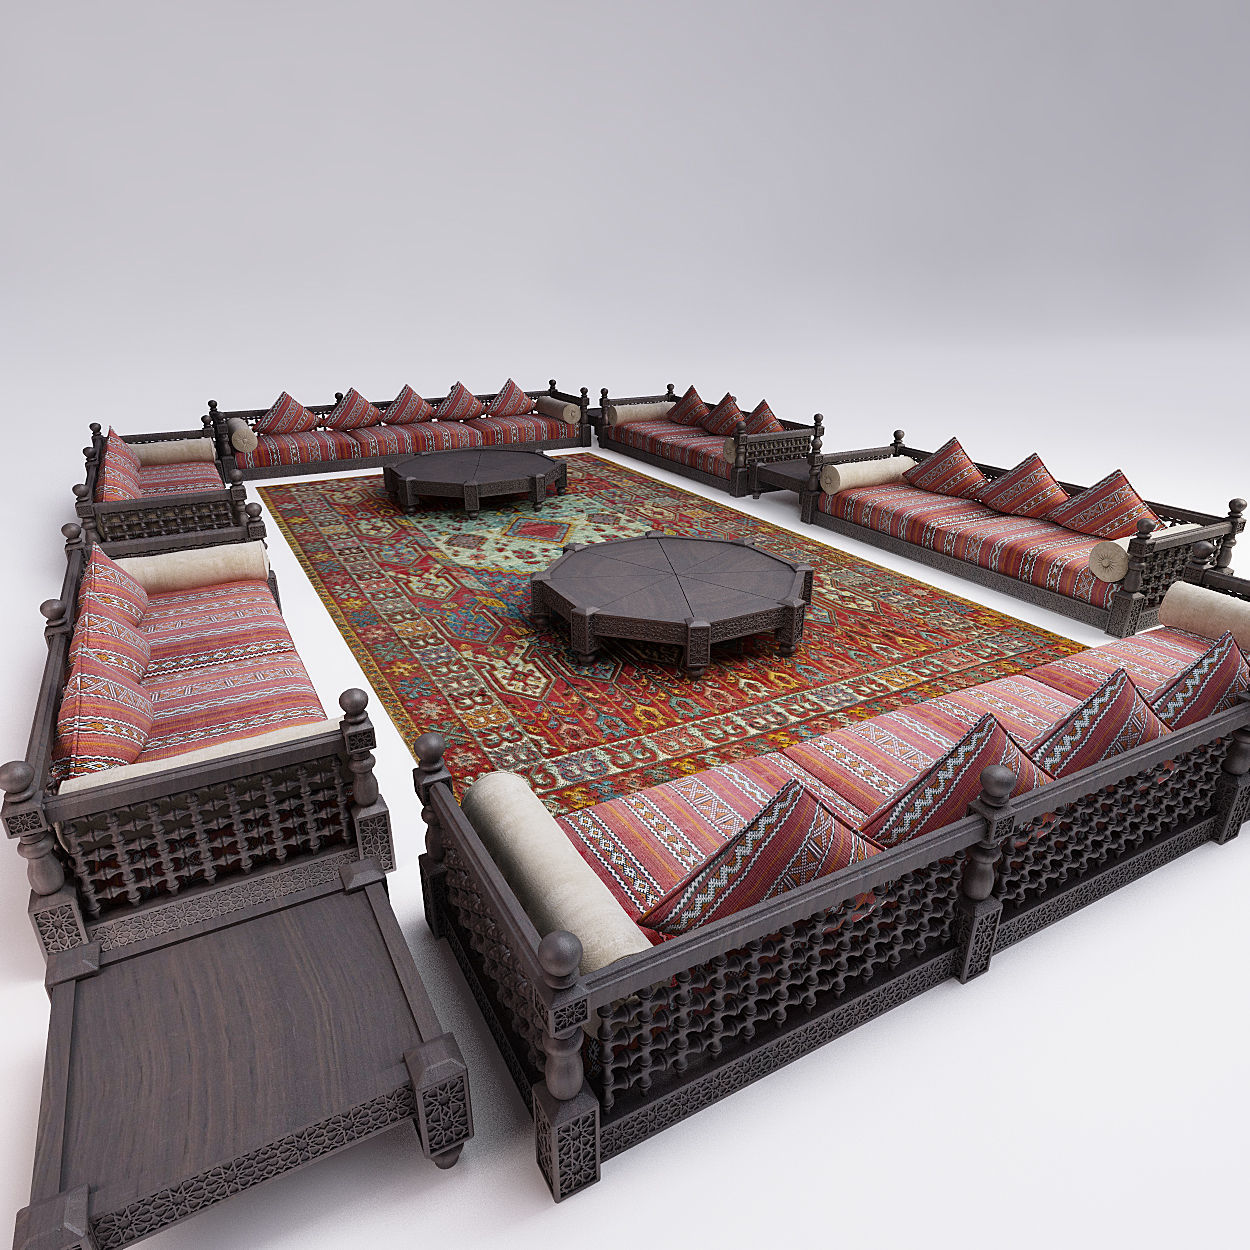chairs: (403, 576, 1250, 1207), (2, 527, 409, 931), (820, 425, 1245, 632), (200, 378, 600, 470), (590, 382, 825, 503), (54, 419, 250, 541)
